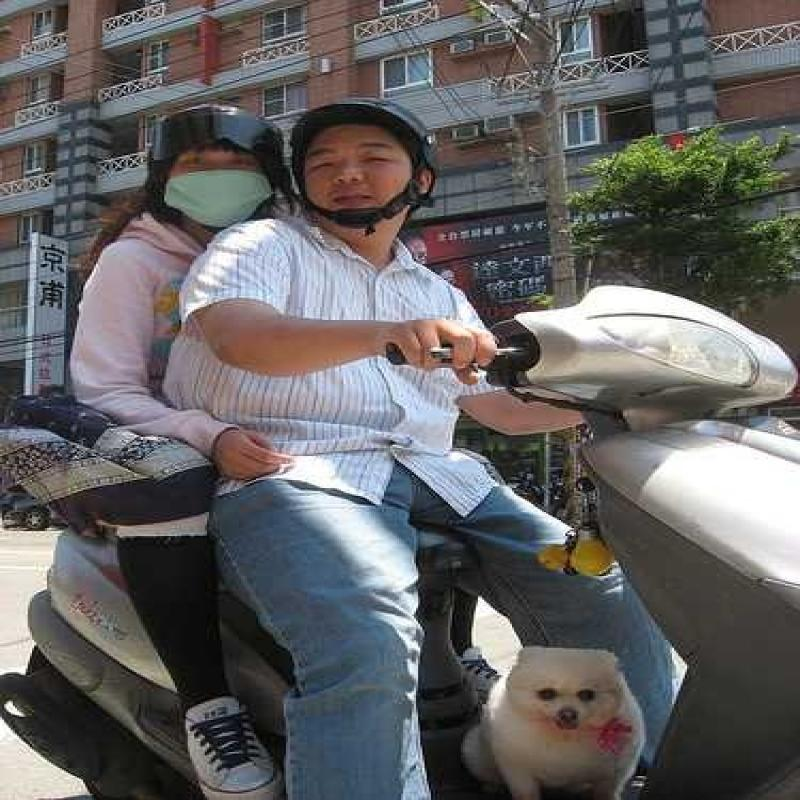bike: (407, 250, 800, 798)
